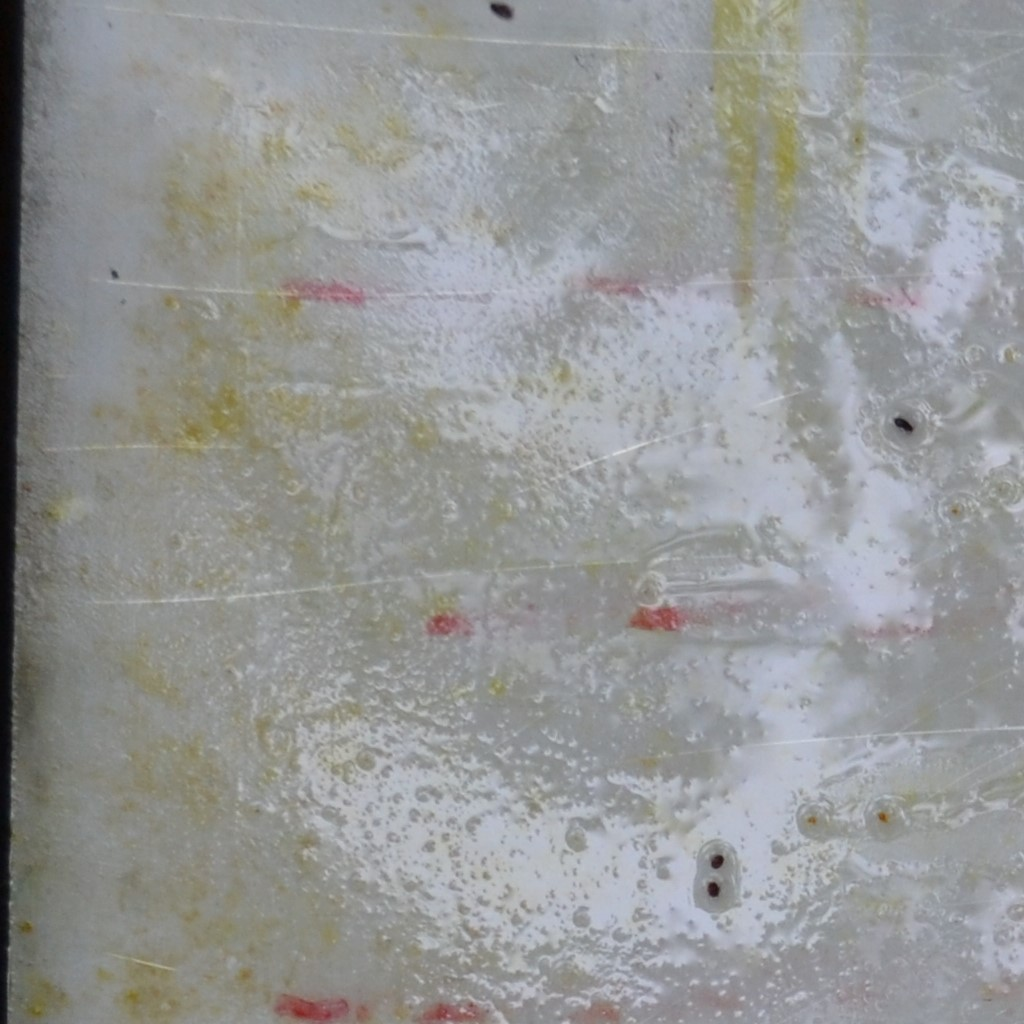varroa: (487, 1, 514, 25), (891, 413, 916, 435), (705, 879, 725, 900), (707, 849, 726, 870)
